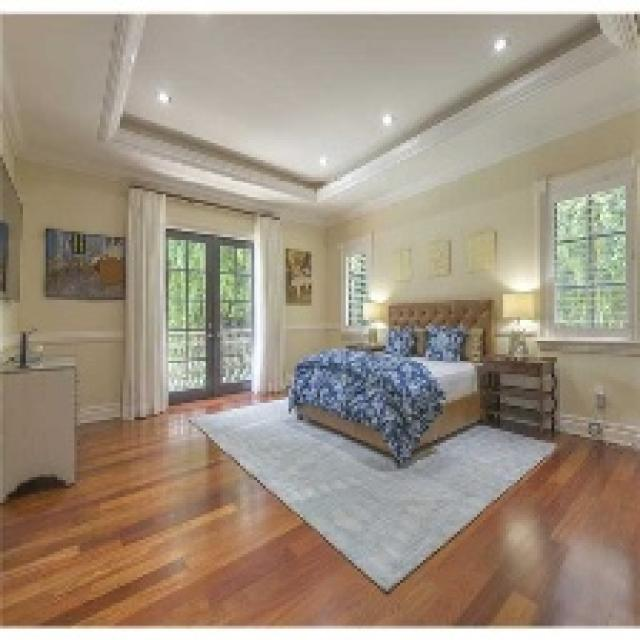Bed: (286, 297, 491, 466)
